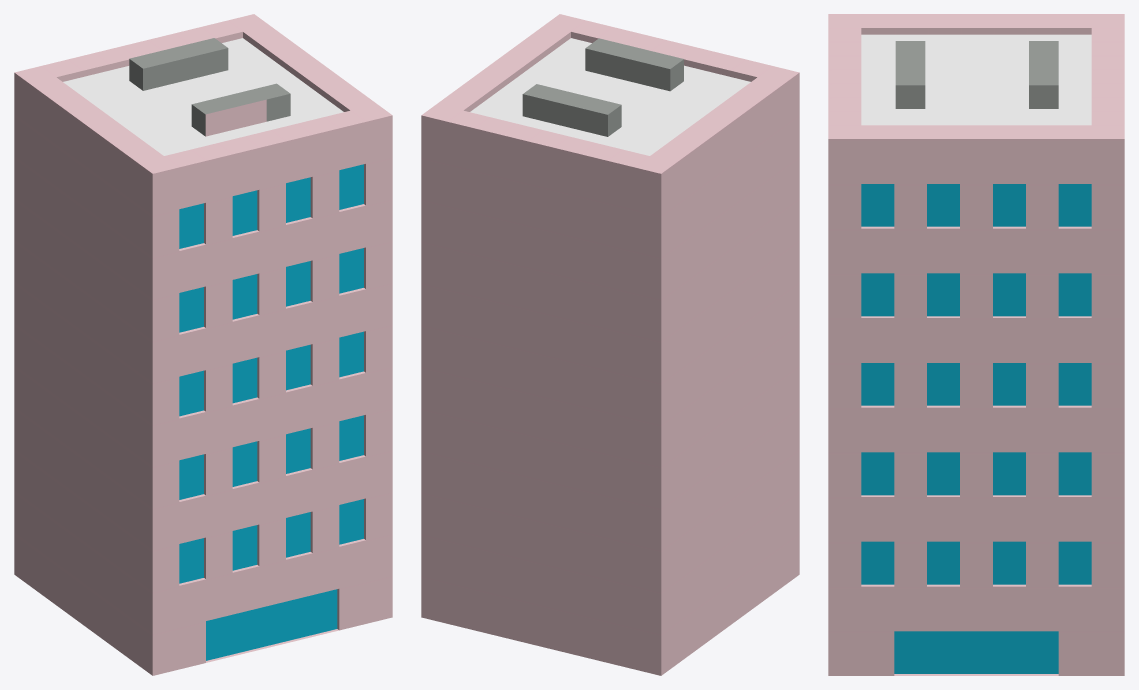
Rendered from pink_buildingblend.fbx.
3 views of the same model, side by side, from view 1: azimuth 30°, elevation 25°; view 2: azimuth 150°, elevation 25°; view 3: azimuth 270°, elevation 25° (orthographic). The views are drawn at different scales.
Parts seen in each view (by area): view 1: Cube; view 2: Cube; view 3: Cube.
Part boxes in pixels (x1,y1,x2,y2): Cube: (14,14,392,675); Cube: (421,14,799,675); Cube: (828,14,1124,675).
Size of the model in its own units: 2000 by 4127 by 2000.
